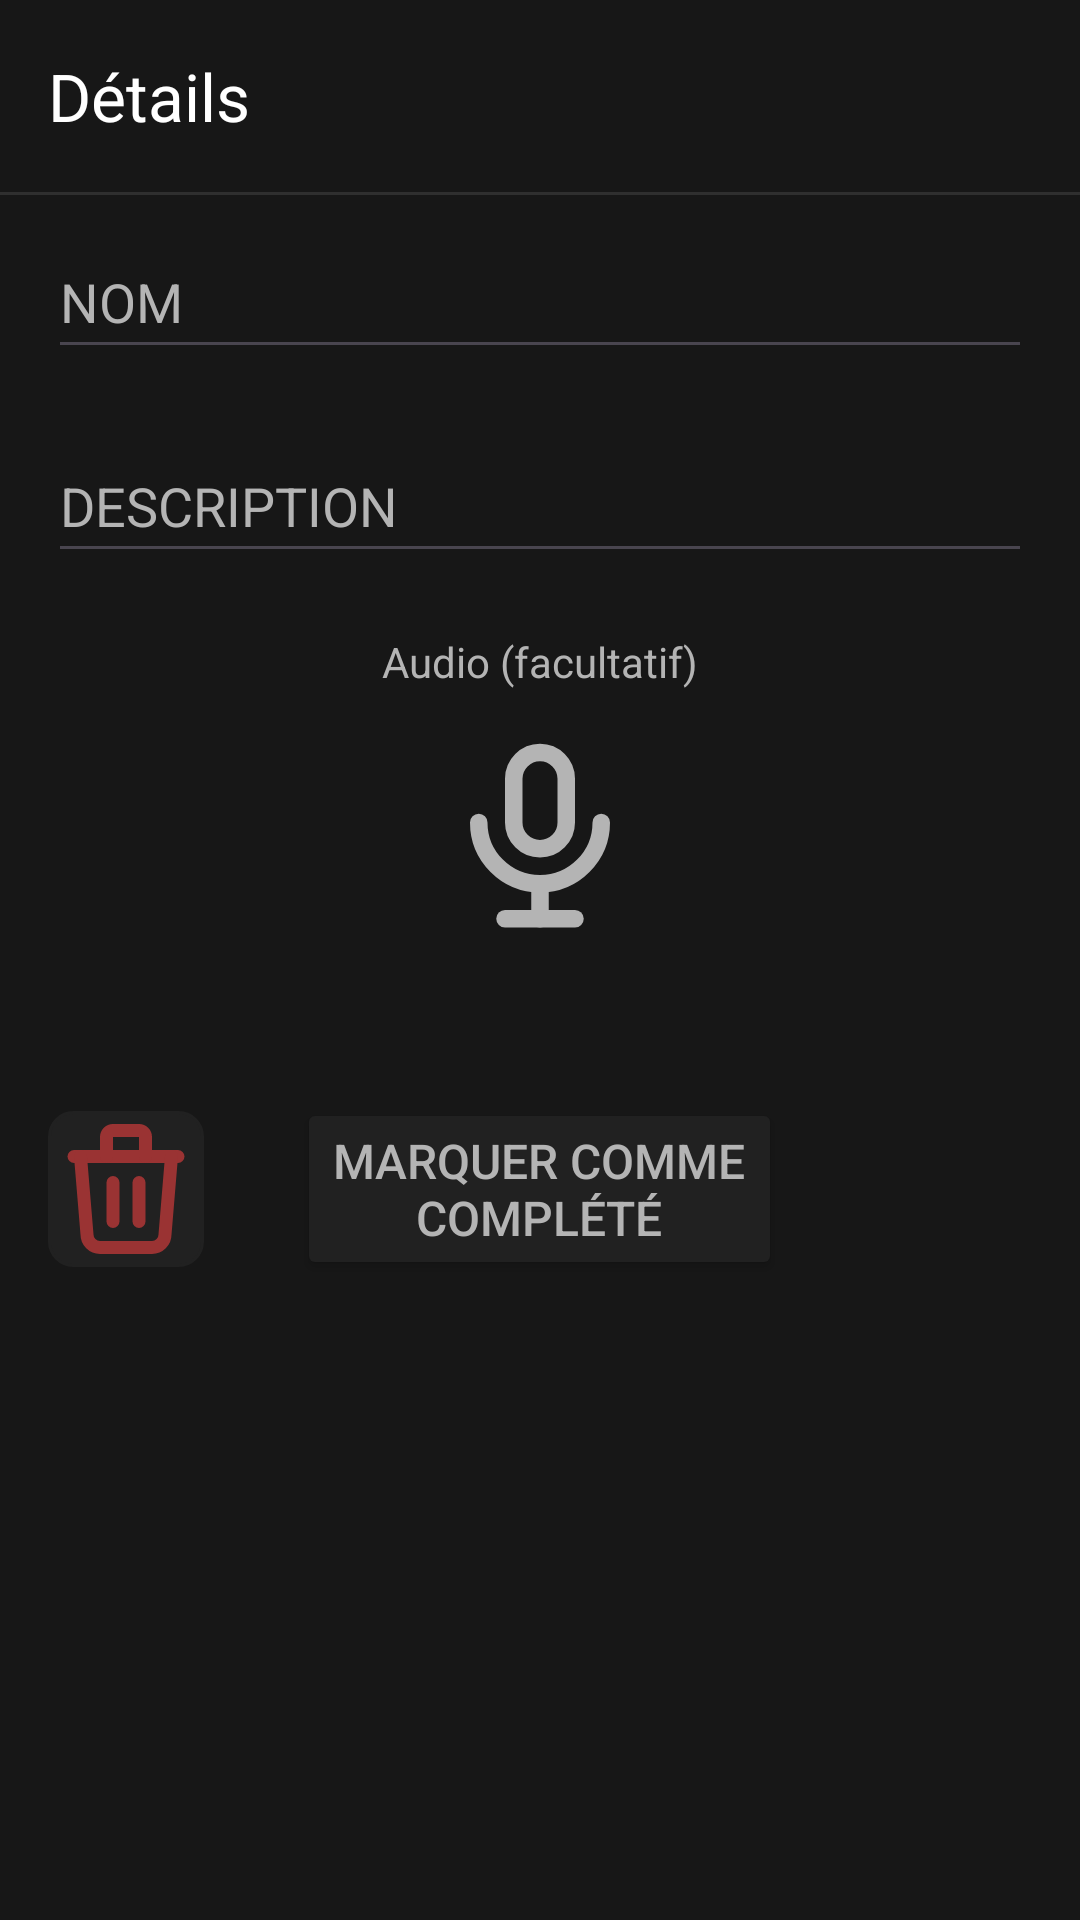

Named icons in this screenshot (1080px x 1920px) and their bounding boxes, (x1, y1, x2, y2):
microphone: (470, 743, 610, 928)
